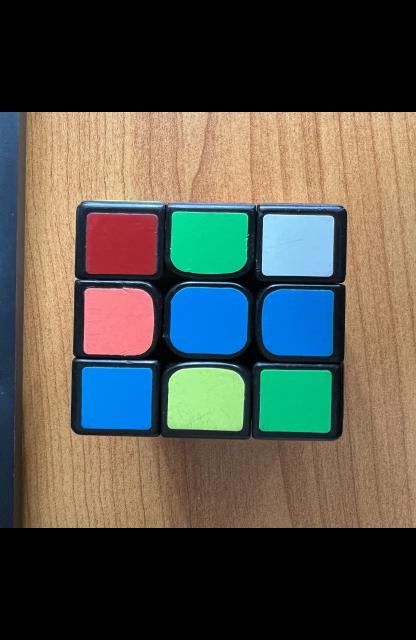Blue: (169, 286, 247, 355), (260, 290, 333, 357), (80, 367, 152, 429)
Green: (169, 212, 247, 274), (258, 370, 330, 434)
Orange: (83, 288, 153, 356)
Red: (84, 213, 157, 274)
White: (260, 214, 333, 277)
Yellow: (167, 368, 244, 432)
